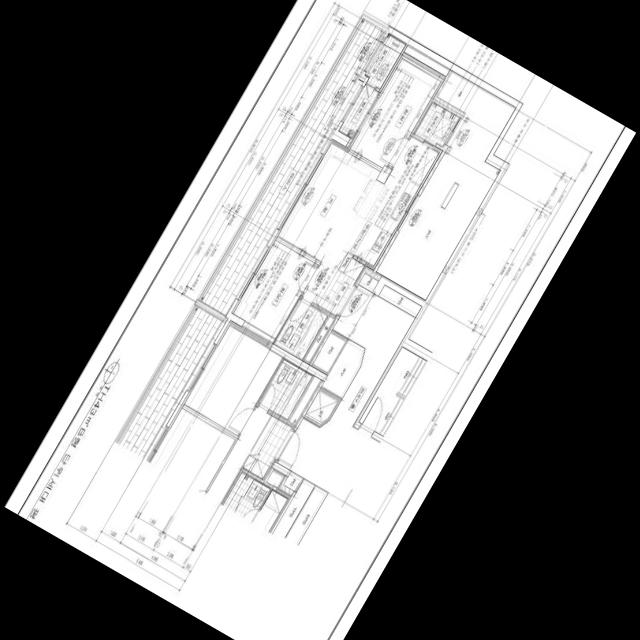background: (4, 0, 636, 640)
space_balconi: (339, 85, 377, 137)
space_bedroom: (348, 45, 449, 168), (232, 240, 317, 343)
space_elevator_hall: (277, 285, 414, 486)
space_front: (317, 258, 365, 317)
space_kitchen: (346, 137, 442, 270)
space_living_room: (276, 140, 384, 304)
space_other: (375, 71, 515, 300), (321, 339, 364, 398), (365, 34, 404, 87), (414, 102, 459, 146), (303, 316, 334, 364), (311, 333, 345, 374), (378, 285, 421, 317), (304, 389, 338, 424), (358, 273, 378, 293), (338, 252, 353, 272)
space_toilet: (274, 299, 328, 360)
